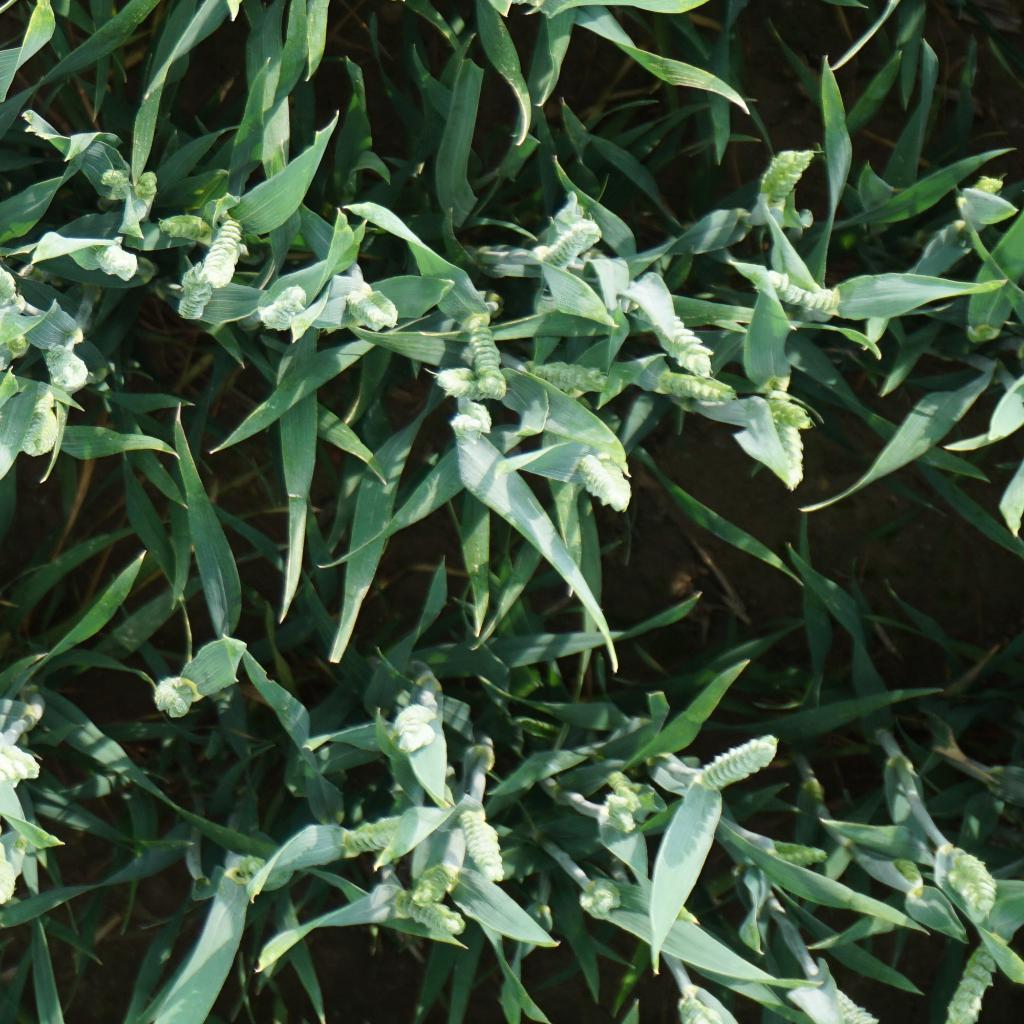0-0: (944, 935, 1008, 1024), (698, 727, 784, 793), (448, 806, 510, 885), (757, 141, 819, 214), (575, 446, 636, 518), (522, 355, 624, 396), (652, 312, 713, 380), (463, 320, 514, 401), (395, 886, 470, 937), (763, 410, 808, 494), (949, 849, 998, 925), (754, 270, 839, 312), (199, 220, 247, 290), (343, 806, 410, 855), (16, 391, 64, 458), (543, 217, 604, 269), (255, 281, 310, 334), (386, 705, 440, 757), (653, 370, 738, 403), (819, 982, 882, 1024), (343, 288, 400, 333), (447, 392, 498, 440), (426, 366, 497, 400), (175, 263, 215, 323), (41, 344, 89, 391), (412, 858, 459, 906), (93, 240, 142, 286), (596, 760, 641, 810), (154, 214, 222, 246), (578, 877, 626, 922), (758, 396, 816, 432), (151, 676, 197, 721), (0, 743, 43, 791), (0, 821, 22, 908), (770, 837, 829, 869), (601, 790, 642, 834), (677, 990, 728, 1024), (889, 852, 925, 899), (98, 166, 129, 211), (237, 849, 265, 880), (134, 170, 161, 199), (5, 332, 29, 354)
